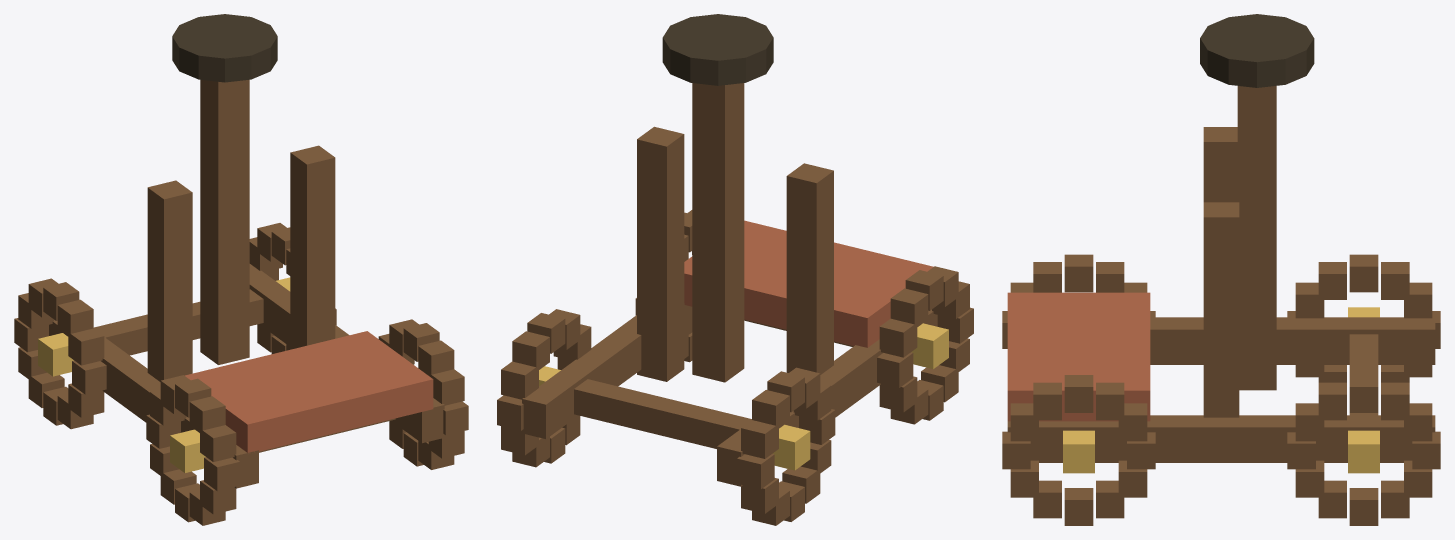
3 views of the same model, side by side, from view 1: azimuth 30°, elevation 25°; view 2: azimuth 150°, elevation 25°; view 3: azimuth 270°, elevation 25° (orthographic). The views are drawn at different scales.
Visible parts, largest first — view 1: Bergfried – Steine, Säulen, Ziegel und Feuerstelle; view 2: Bergfried – Steine, Säulen, Ziegel und Feuerstelle; view 3: Bergfried – Steine, Säulen, Ziegel und Feuerstelle.
Boxes of the visible parts, bbox=[...] form: Bergfried – Steine, Säulen, Ziegel und Feuerstelle: bbox=[14, 14, 468, 525]; Bergfried – Steine, Säulen, Ziegel und Feuerstelle: bbox=[497, 14, 973, 525]; Bergfried – Steine, Säulen, Ziegel und Feuerstelle: bbox=[1002, 14, 1440, 525].
Size of the model in its own units: 182 by 261 by 246.
